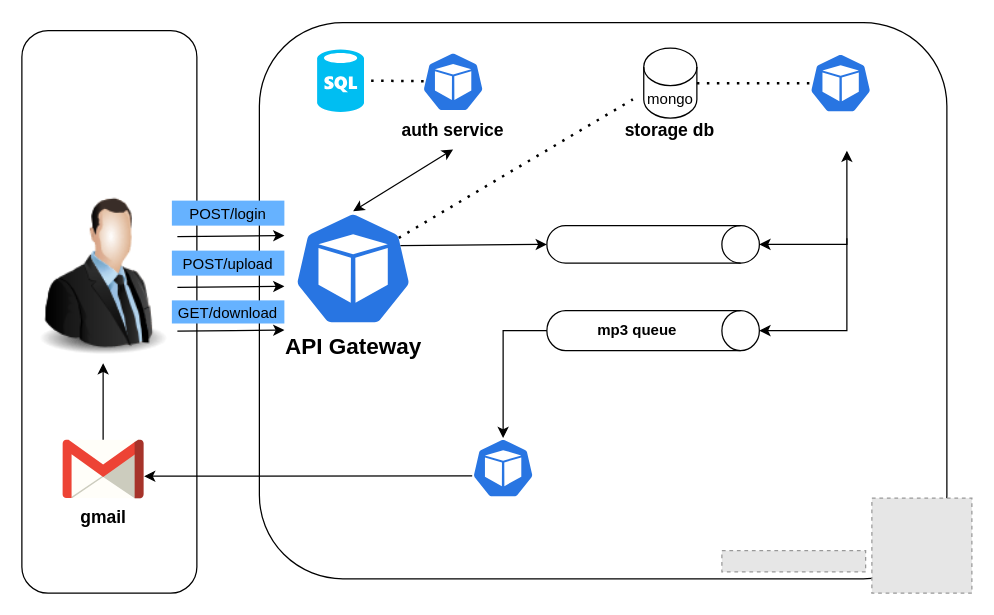
The diagram is 994 pixels wide and 615 high, and some of its shapes have lost their labels. Grey dashed boxes stand in for pictures. The centre of each missing label's shape, as x and y in pixels:
"auth DB" belongs at (x=339, y=80).
"converter service" belongs at (x=840, y=82).
"notification service" belongs at (x=502, y=467).
"video queue" belongs at (x=652, y=243).
